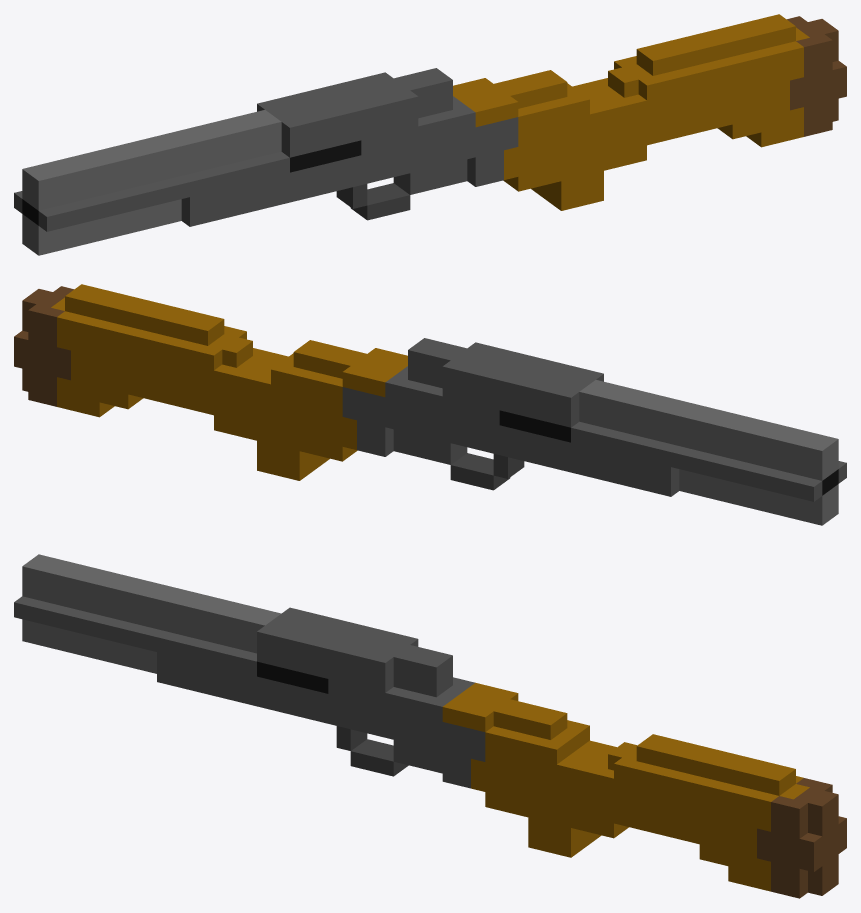
Rendered from Arme1.obj.
The picture shows the model from 3 angles, top to bottom: view 1: azimuth 30°, elevation 25°; view 2: azimuth 150°, elevation 25°; view 3: azimuth 330°, elevation 25°; orthographic projection.
Size of the model in its own units: 5.6 by 1 by 0.4.
1 material, 1 textured.
